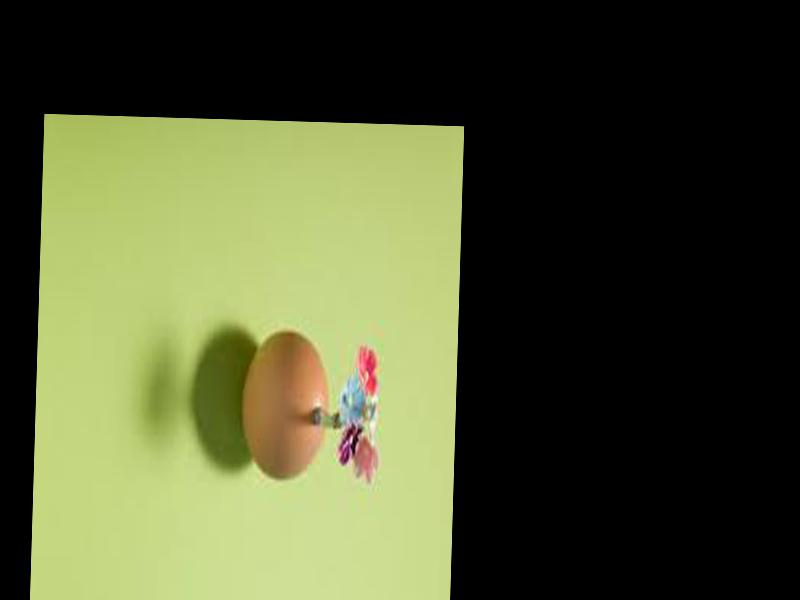Eggs: (239, 331, 329, 480)
